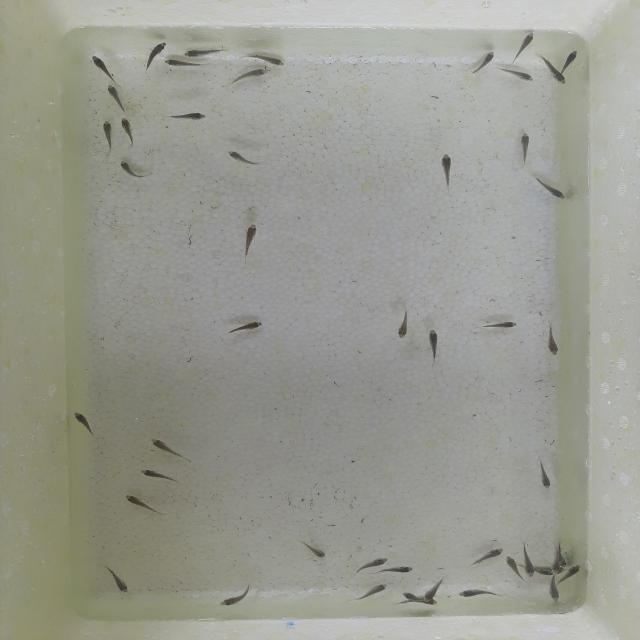fingerling: (124, 492, 162, 516), (103, 82, 130, 114), (180, 43, 233, 59), (222, 149, 263, 169), (138, 468, 182, 486), (104, 566, 132, 594), (216, 587, 255, 607), (296, 538, 329, 560), (166, 108, 211, 124), (238, 223, 259, 256), (478, 318, 519, 334), (90, 53, 115, 79), (543, 61, 567, 88), (145, 39, 169, 66), (538, 179, 568, 200), (147, 437, 180, 456), (453, 589, 501, 601), (515, 31, 538, 56), (508, 66, 536, 86), (439, 152, 453, 191), (476, 50, 499, 73), (162, 57, 197, 72), (72, 410, 94, 433), (536, 462, 553, 491), (427, 328, 439, 369), (420, 584, 444, 604), (562, 49, 582, 72), (118, 159, 145, 176), (254, 54, 289, 67), (362, 581, 391, 596), (475, 546, 506, 560), (100, 119, 114, 149), (360, 556, 390, 569), (118, 116, 134, 140), (519, 560, 538, 580), (230, 320, 264, 331), (237, 68, 271, 79), (562, 564, 582, 582), (518, 131, 530, 161), (546, 584, 562, 606), (546, 331, 559, 357), (379, 565, 414, 574), (502, 555, 517, 575), (396, 319, 409, 342), (400, 588, 416, 602), (550, 557, 562, 575)
